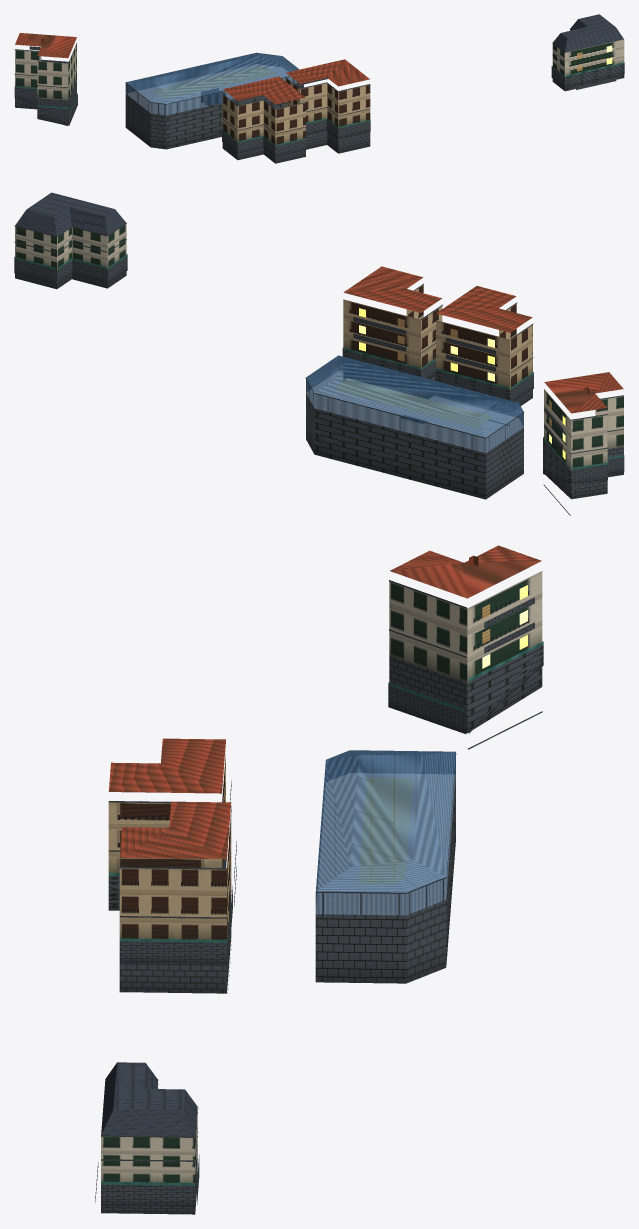
Rendered from osm_buildings_T_W01_S02_Q4.glb.
3 renders of one model, top to bottom at view 1: azimuth 30°, elevation 25°; view 2: azimuth 150°, elevation 25°; view 3: azimuth 270°, elevation 25°, orthographic. The views are drawn at different scales.
Parts seen in each view (by area): view 1: OSM_T_W01_S02_Q4_foundation, OSM_T_W01_S02_Q4_greenhouse_blend, OSM_T_W01_S02_Q4_wall_french_ochre, OSM_T_W01_S02_Q4_wall_cream_stucco, OSM_T_W01_S02_Q4_roof_terracotta, OSM_T_W01_S02_Q4_window_emissive_warm, OSM_T_W01_S02_Q4_roof_mansard_slate, OSM_T_W01_S02_Q4_roof_mansard_deck, OSM_T_W01_S02_Q4_trim_cornice, OSM_T_W01_S02_Q4_roof_mint_metal, OSM_T_W01_S02_Q4_balcony_railing; view 2: OSM_T_W01_S02_Q4_foundation, OSM_T_W01_S02_Q4_greenhouse_blend, OSM_T_W01_S02_Q4_wall_french_ochre, OSM_T_W01_S02_Q4_wall_cream_stucco, OSM_T_W01_S02_Q4_roof_terracotta, OSM_T_W01_S02_Q4_window_emissive_warm, OSM_T_W01_S02_Q4_roof_mansard_slate, OSM_T_W01_S02_Q4_roof_mansard_deck, OSM_T_W01_S02_Q4_balcony_railing, OSM_T_W01_S02_Q4_roof_mint_metal, OSM_T_W01_S02_Q4_trim_cornice; view 3: OSM_T_W01_S02_Q4_foundation, OSM_T_W01_S02_Q4_greenhouse_blend, OSM_T_W01_S02_Q4_wall_cream_stucco, OSM_T_W01_S02_Q4_roof_terracotta, OSM_T_W01_S02_Q4_wall_french_ochre, OSM_T_W01_S02_Q4_window_emissive_warm, OSM_T_W01_S02_Q4_roof_mansard_slate, OSM_T_W01_S02_Q4_roof_mansard_deck, OSM_T_W01_S02_Q4_trim_cornice, OSM_T_W01_S02_Q4_roof_mint_metal, OSM_T_W01_S02_Q4_balcony_railing.
Part boxes in pixels (left/top/right/bottom): OSM_T_W01_S02_Q4_foundation: left=14, top=63, right=624, bottom=163; OSM_T_W01_S02_Q4_greenhouse_blend: left=125, top=52, right=299, bottom=115; OSM_T_W01_S02_Q4_wall_french_ochre: left=222, top=78, right=370, bottom=146; OSM_T_W01_S02_Q4_wall_cream_stucco: left=15, top=30, right=624, bottom=100; OSM_T_W01_S02_Q4_roof_terracotta: left=15, top=33, right=369, bottom=104; OSM_T_W01_S02_Q4_window_emissive_warm: left=155, top=58, right=612, bottom=98; OSM_T_W01_S02_Q4_roof_mansard_slate: left=553, top=19, right=623, bottom=52; OSM_T_W01_S02_Q4_roof_mansard_deck: left=125, top=14, right=615, bottom=115; OSM_T_W01_S02_Q4_trim_cornice: left=14, top=29, right=624, bottom=133; OSM_T_W01_S02_Q4_roof_mint_metal: left=14, top=62, right=624, bottom=146; OSM_T_W01_S02_Q4_balcony_railing: left=29, top=46, right=616, bottom=102; OSM_T_W01_S02_Q4_foundation: left=14, top=256, right=624, bottom=499; OSM_T_W01_S02_Q4_greenhouse_blend: left=306, top=355, right=523, bottom=453; OSM_T_W01_S02_Q4_wall_french_ochre: left=343, top=285, right=532, bottom=390; OSM_T_W01_S02_Q4_wall_cream_stucco: left=15, top=224, right=623, bottom=470; OSM_T_W01_S02_Q4_roof_terracotta: left=343, top=266, right=623, bottom=413; OSM_T_W01_S02_Q4_window_emissive_warm: left=336, top=308, right=565, bottom=459; OSM_T_W01_S02_Q4_roof_mansard_slate: left=15, top=207, right=125, bottom=236; OSM_T_W01_S02_Q4_roof_mansard_deck: left=27, top=192, right=524, bottom=450; OSM_T_W01_S02_Q4_balcony_railing: left=353, top=316, right=562, bottom=449; OSM_T_W01_S02_Q4_roof_mint_metal: left=14, top=254, right=624, bottom=469; OSM_T_W01_S02_Q4_trim_cornice: left=14, top=223, right=623, bottom=515; OSM_T_W01_S02_Q4_foundation: left=101, top=644, right=543, bottom=1214; OSM_T_W01_S02_Q4_greenhouse_blend: left=315, top=750, right=455, bottom=915; OSM_T_W01_S02_Q4_wall_cream_stucco: left=101, top=571, right=542, bottom=1183; OSM_T_W01_S02_Q4_roof_terracotta: left=108, top=545, right=541, bottom=859; OSM_T_W01_S02_Q4_wall_french_ochre: left=108, top=753, right=231, bottom=940; OSM_T_W01_S02_Q4_window_emissive_warm: left=225, top=585, right=527, bottom=921; OSM_T_W01_S02_Q4_roof_mansard_slate: left=101, top=1063, right=197, bottom=1136; OSM_T_W01_S02_Q4_roof_mansard_deck: left=113, top=754, right=456, bottom=1109; OSM_T_W01_S02_Q4_trim_cornice: left=101, top=580, right=542, bottom=1161; OSM_T_W01_S02_Q4_roof_mint_metal: left=101, top=641, right=543, bottom=1185; OSM_T_W01_S02_Q4_balcony_railing: left=95, top=597, right=534, bottom=1202.
Bounding box in the file's own units: 147 × 28.46 × 55.45.
Materials: 13 (13 with a texture image).
